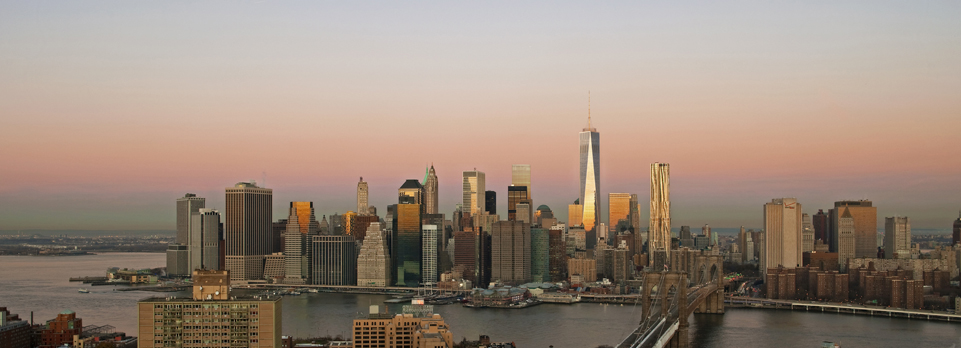wtc: (579, 89, 600, 240)
